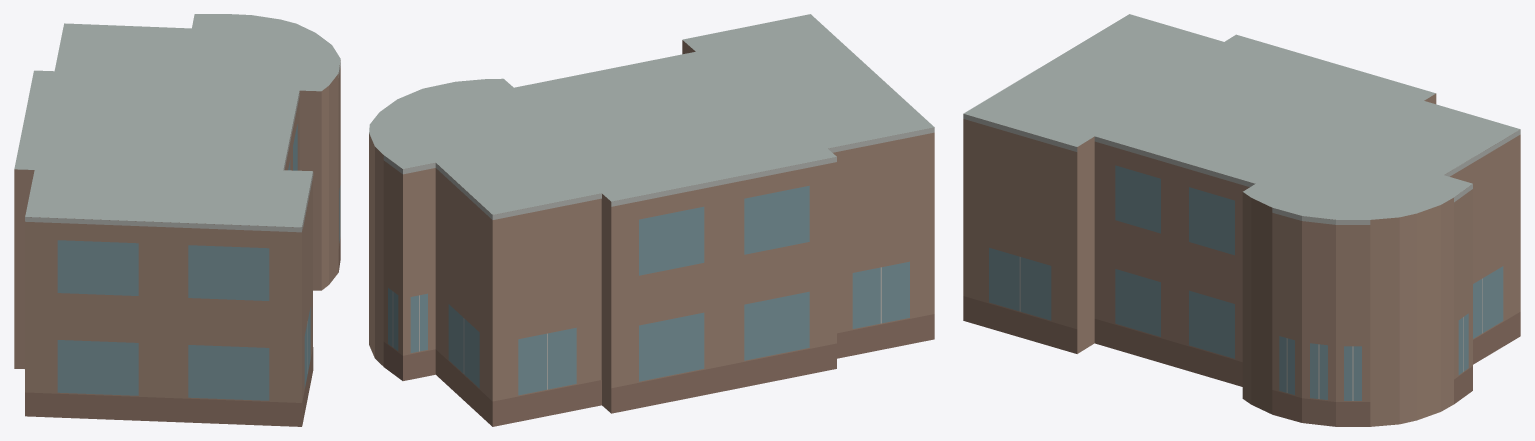
The model's file is survey-upis-32855800.glb.
3 renders of one model, left to right at view 1: azimuth 30°, elevation 25°; view 2: azimuth 150°, elevation 25°; view 3: azimuth 270°, elevation 25°, orthographic. The views are drawn at different scales.
Visible parts, largest first — view 1: survey-upis-32855800.tmp; view 2: survey-upis-32855800.tmp; view 3: survey-upis-32855800.tmp.
Part boxes in pixels (x1=…): survey-upis-32855800.tmp: x1=14, y1=14, x2=340, y2=426; survey-upis-32855800.tmp: x1=369, y1=14, x2=934, y2=426; survey-upis-32855800.tmp: x1=963, y1=14, x2=1520, y2=426.
Size of the model in its own units: 21.13 by 9.9 by 24.17.
